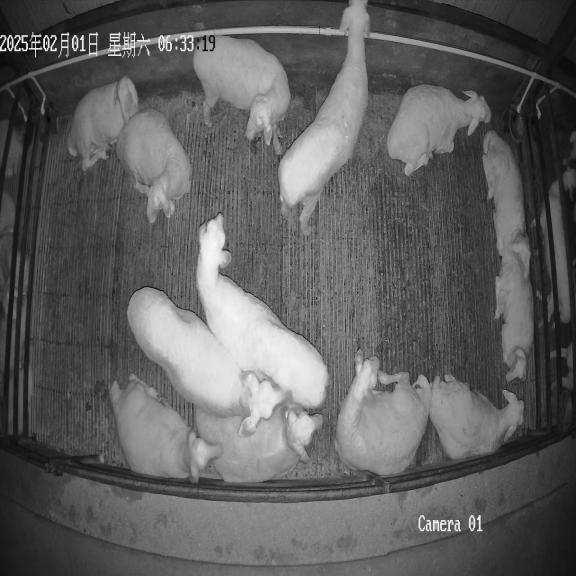lying: (334, 351, 431, 476), (110, 374, 221, 482), (196, 403, 323, 483), (387, 84, 491, 176), (117, 109, 191, 223), (429, 375, 524, 460), (482, 130, 530, 278), (67, 76, 139, 171), (495, 250, 533, 381)
stand: (196, 213, 328, 407), (127, 287, 293, 432), (278, 0, 370, 236), (193, 35, 290, 155), (181, 354, 188, 362)
